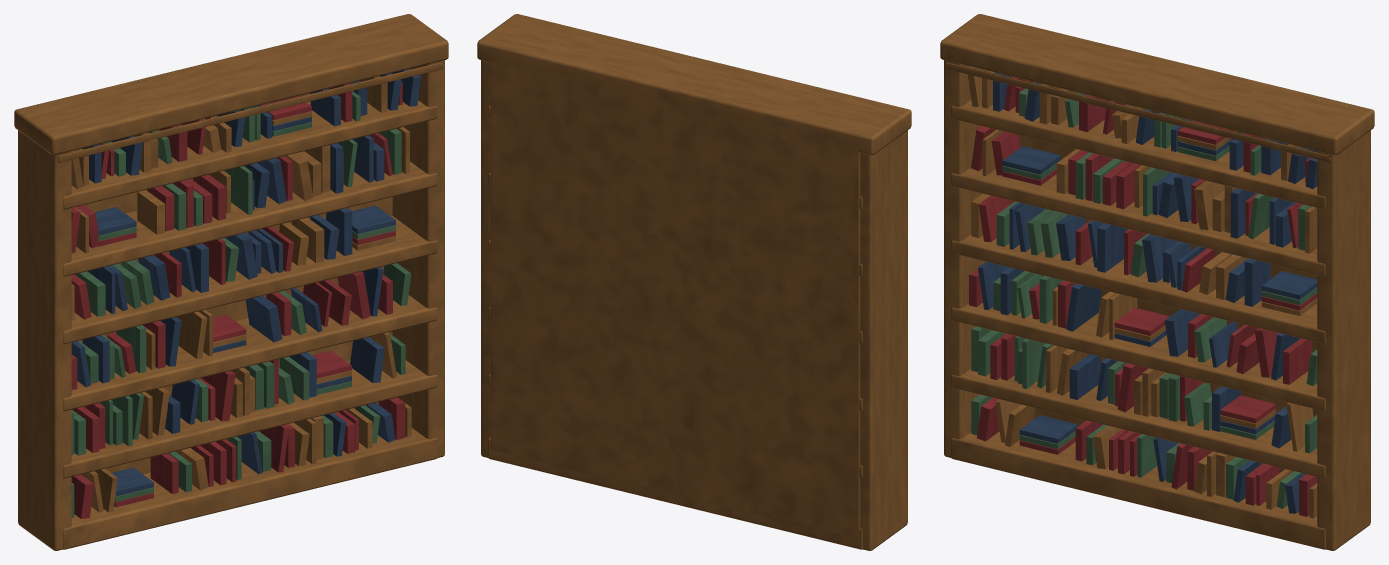
File: Furn_Bookshelf.fbx
The picture shows the model from 3 angles, left to right: view 1: azimuth 30°, elevation 25°; view 2: azimuth 150°, elevation 25°; view 3: azimuth 330°, elevation 25°; orthographic projection.
Visible parts, largest first — view 1: Furn_Bookshelf_Mesh; view 2: Furn_Bookshelf_Mesh; view 3: Furn_Bookshelf_Mesh.
Part boxes in pixels (x1=…): Furn_Bookshelf_Mesh: x1=14, y1=14, x2=448, y2=550; Furn_Bookshelf_Mesh: x1=477, y1=14, x2=911, y2=550; Furn_Bookshelf_Mesh: x1=940, y1=14, x2=1374, y2=550.
Size of the model in its own units: 2.6 by 2.6 by 0.45.
Materials: 4 (4 with a texture image).
